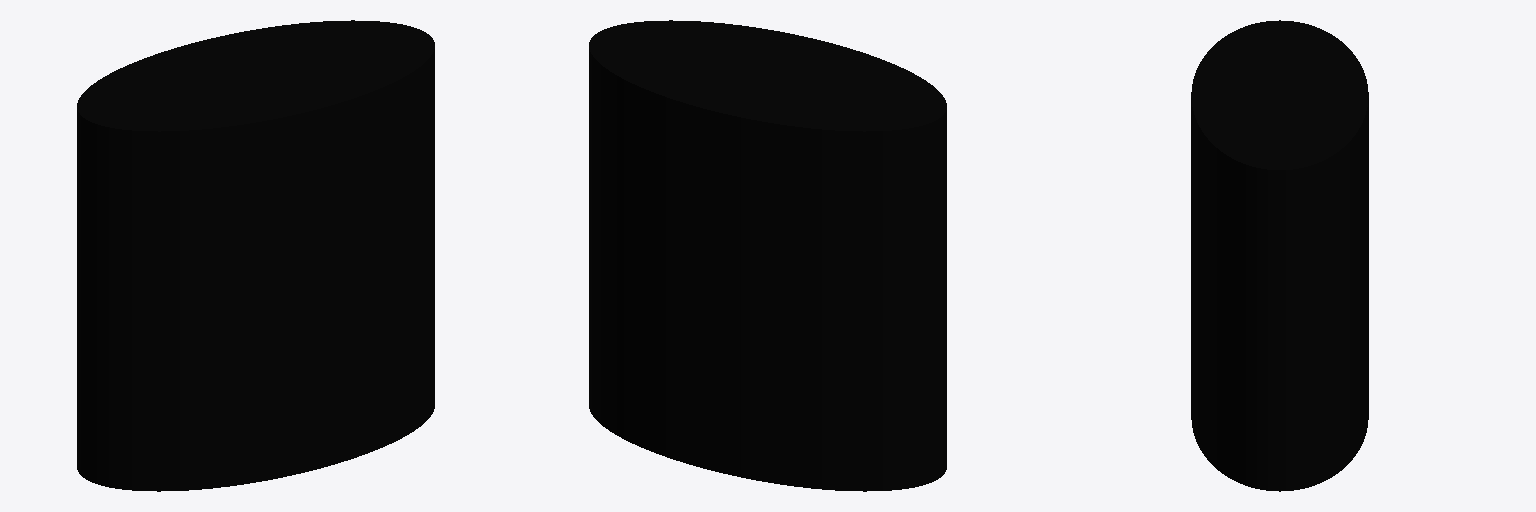
robot.urdf — luxtac_ellipse_vert:
<?xml version="1.0"?>
<!-- ellipse, long axis at 0 deg in the pad plane.
     Generated by scripts/make_luxtac_objs.py. Metres, centred on x,y, cross-section
     centre at z = 0.0452 (the pad centre once staged). Long axis at 0 deg in
     the x-z plane: 0 = along the finger, 90 = across it. Length 40mm,
     mass 1.500000 kg.

     The link is named 'cube' because TacSL resolves the indenter link by name. -->
<robot name="luxtac_ellipse_vert">
    <link name="cube">
        <visual>
            <geometry><mesh filename="../mesh/luxtac_ellipse_vert.obj"/></geometry>
            <material name="black"><color rgba="0.05 0.05 0.05 1"/></material>
        </visual>
        <collision>
            <geometry><mesh filename="../mesh/luxtac_ellipse_vert.obj"/></geometry>
            <sdf resolution="256"/>  <!-- 0.156mm voxels -->
        </collision>
        <inertial>
            <origin rpy="0 0 0" xyz="0 0 0.0452"/>
            <mass value="1.500000"/>
            <inertia ixx="2.374732e-04" ixy="0" ixz="0" iyy="3.498929e-04" iyz="0" izz="1.873662e-04"/>
        </inertial>
    </link>
</robot>

--- Facts derived from the render (not from the file) ---
The picture shows the robot from 3 angles, left to right: view 1: azimuth 30°, elevation 25°; view 2: azimuth 150°, elevation 25°; view 3: azimuth 270°, elevation 25°; orthographic projection.
Model luxtac_ellipse_vert with 1 links and 0 joints (none), rooted at cube, posed all joints at 0.
Links seen in each view (by area): view 1: cube; view 2: cube; view 3: cube.
Boxes of the visible links, x1,y1,x2,y2 form: cube: (77,20,434,491); cube: (589,20,946,491); cube: (1191,20,1368,491).
Size in the robot's own frame: 0.04 by 0.02 by 0.04 metres.
1 mesh visuals loaded from 1 distinct referenced files (1 OBJ).
